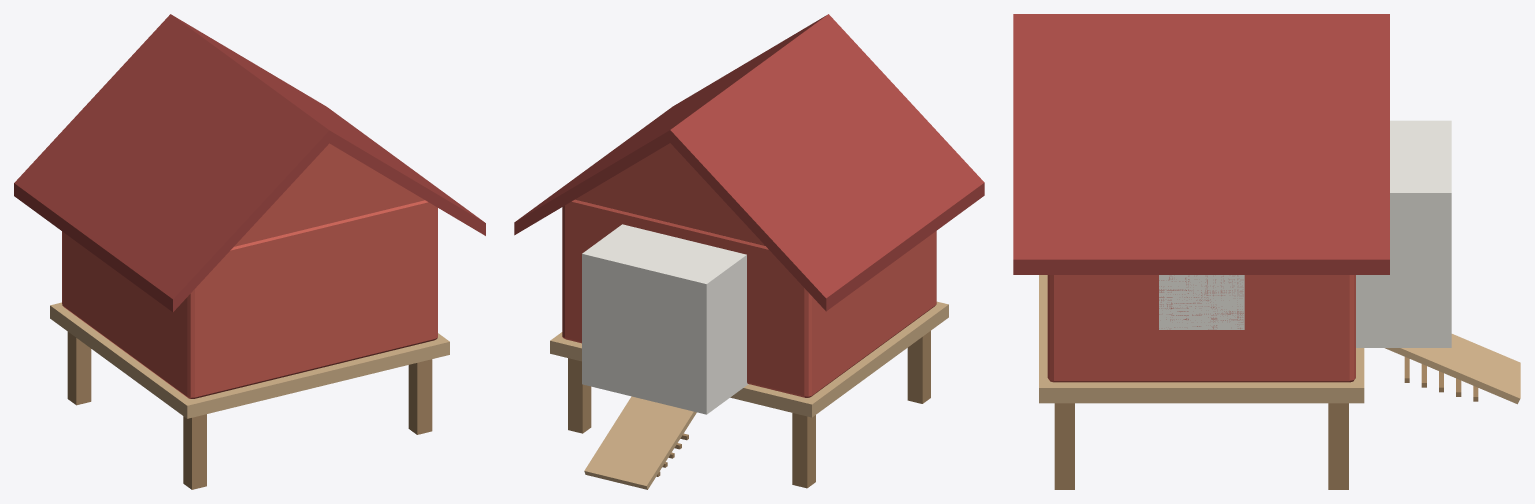
The model's file is world_coop.glb.
The picture shows the model from 3 angles, left to right: view 1: azimuth 30°, elevation 25°; view 2: azimuth 150°, elevation 25°; view 3: azimuth 270°, elevation 25°; orthographic projection. The views are drawn at different scales.
Parts seen in each view (by area): view 1: world_coop; view 2: world_coop; view 3: world_coop.
Boxes of the visible parts, x1,y1,x2,y2 form: world_coop: [14, 14, 485, 489]; world_coop: [514, 14, 984, 489]; world_coop: [1013, 14, 1520, 489].
Bounding box in the file's own units: 2.5 × 2.62 × 2.96.
